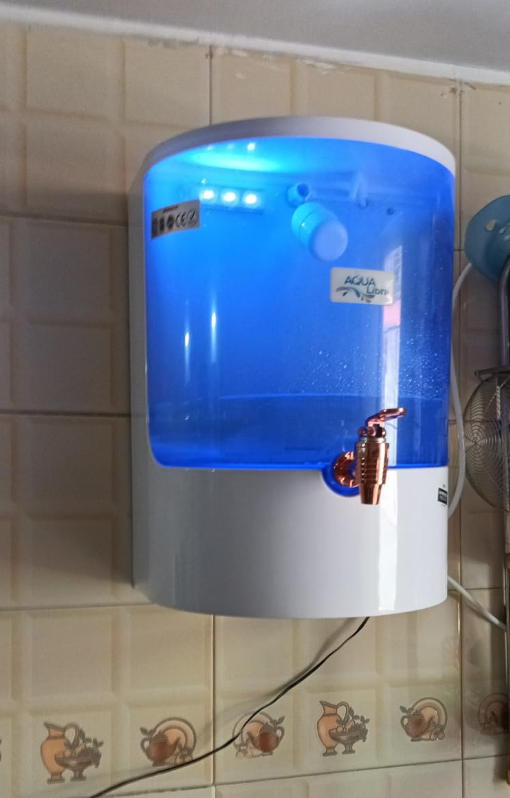water purifier: (115, 108, 462, 637)
